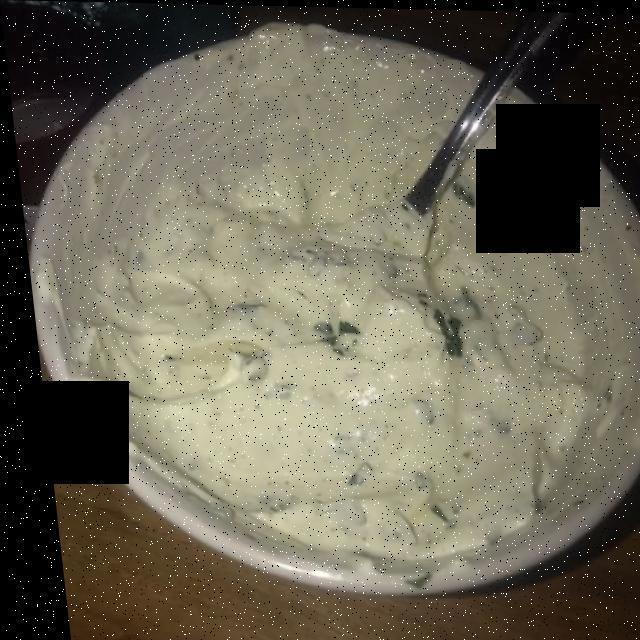dips: (70, 62, 633, 555)
